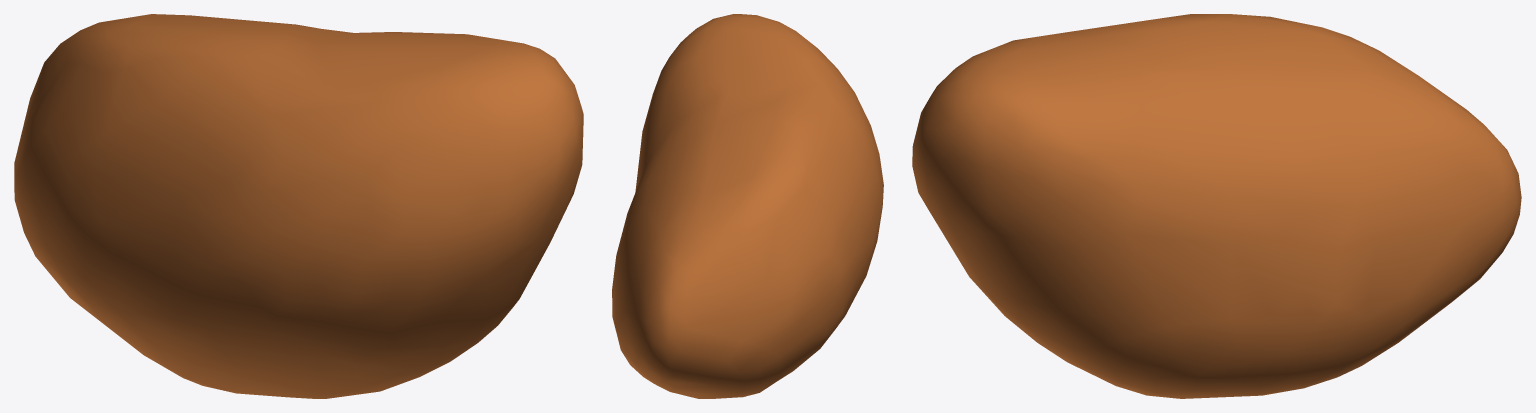
The model's file is thalamus.glb.
3 renders of one model, left to right at view 1: azimuth 30°, elevation 25°; view 2: azimuth 150°, elevation 25°; view 3: azimuth 270°, elevation 25°, orthographic. The views are drawn at different scales.
Parts seen in each view (by area): view 1: Thalamus.r.001; view 2: Thalamus.r.001; view 3: Thalamus.r.001.
Part boxes in pixels (left/top/right/bottom): Thalamus.r.001: left=14, top=14, right=583, bottom=398; Thalamus.r.001: left=612, top=14, right=883, bottom=398; Thalamus.r.001: left=912, top=14, right=1521, bottom=398.
Size of the model in its own units: 2.7 by 2.73 by 4.22.
